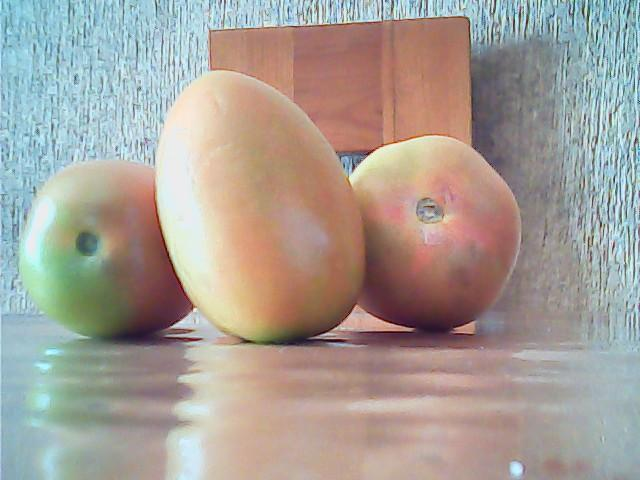verde: (155, 69, 368, 346), (346, 136, 523, 330), (19, 158, 199, 343)
